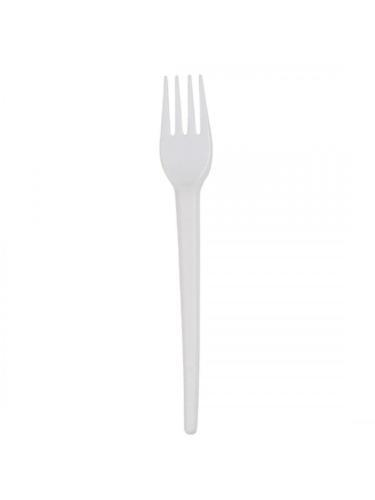Fork: (159, 73, 213, 435)
